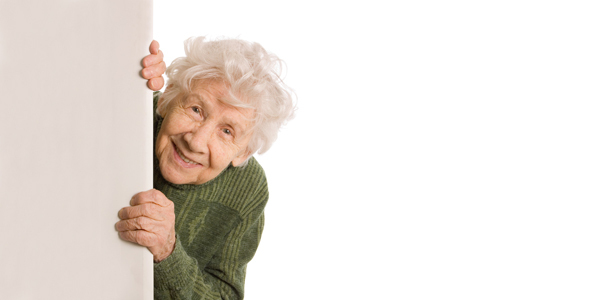happy: (156, 90, 245, 187)
